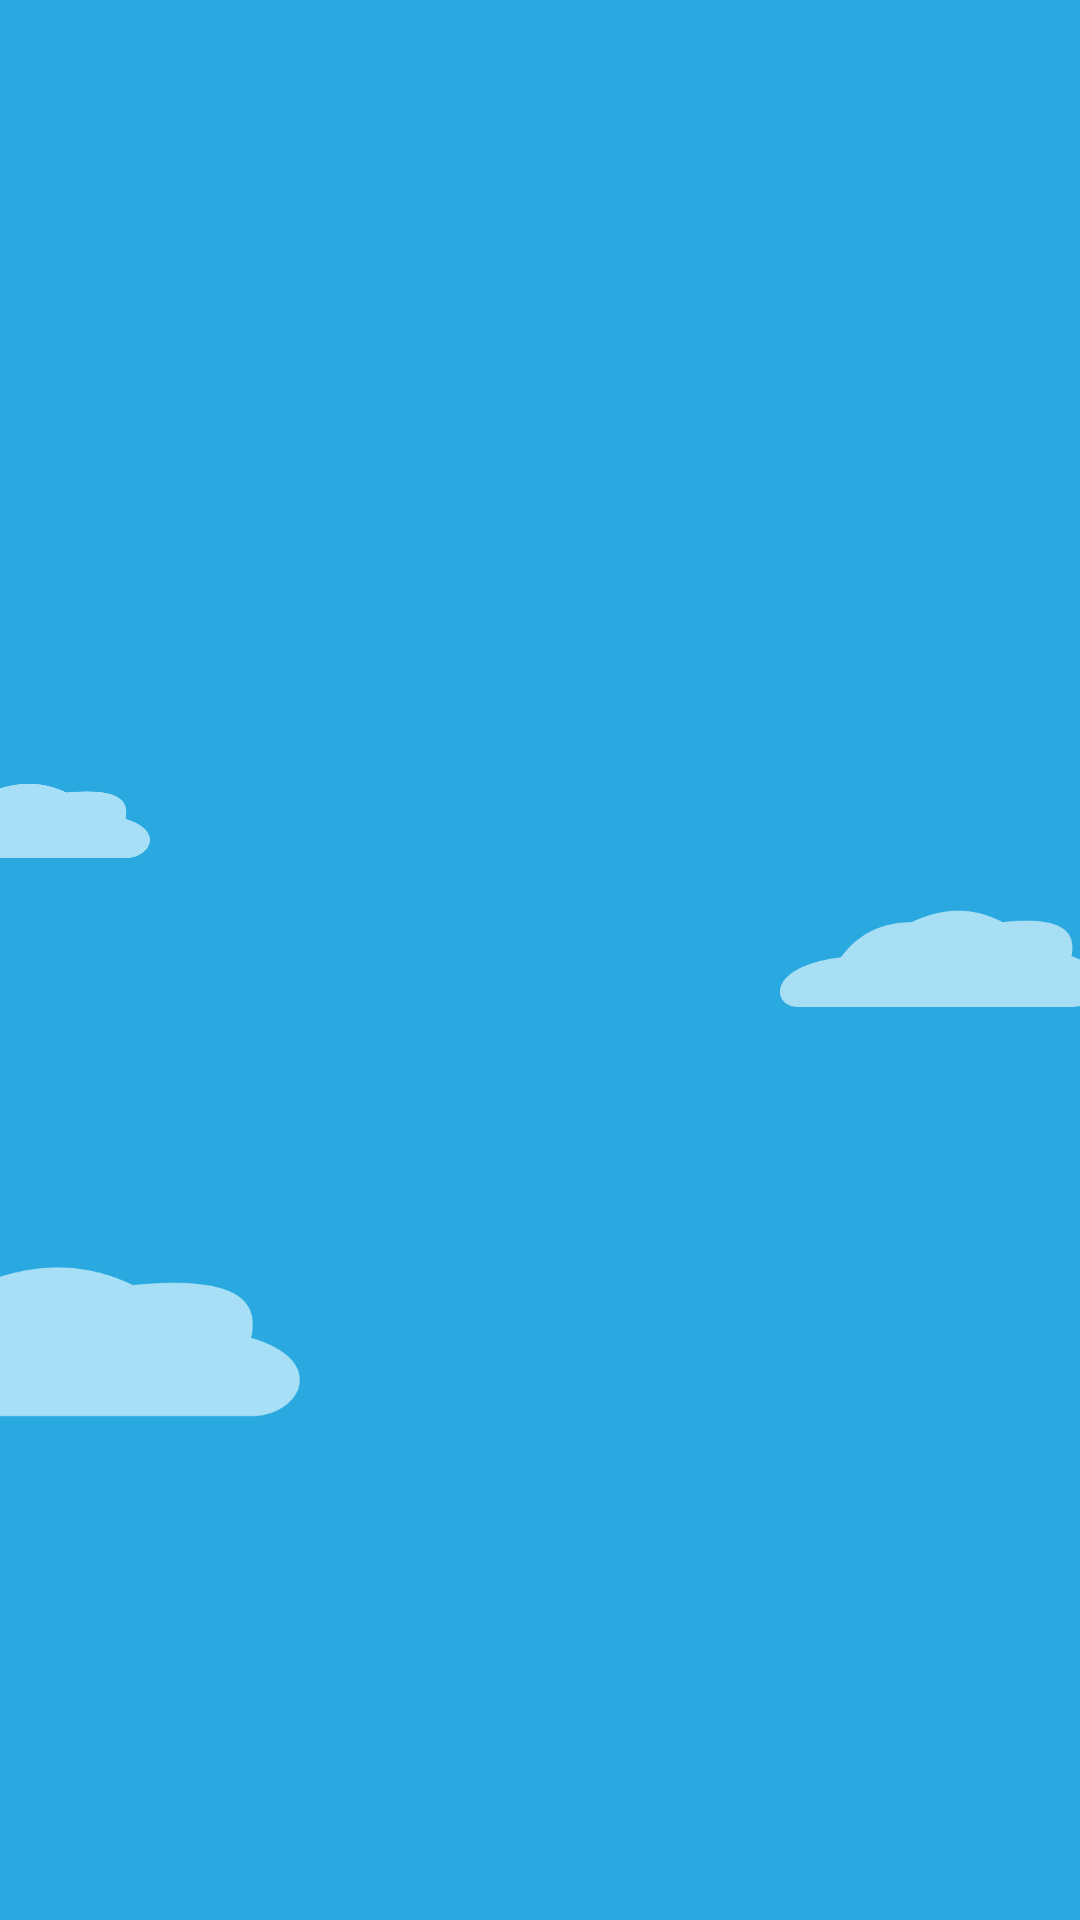

Screen size 1080x1920. Icon name, then its center in pixels as point (x, y):
left cloud: point (75, 821), point (150, 1342)
right cloud: point (930, 958)
